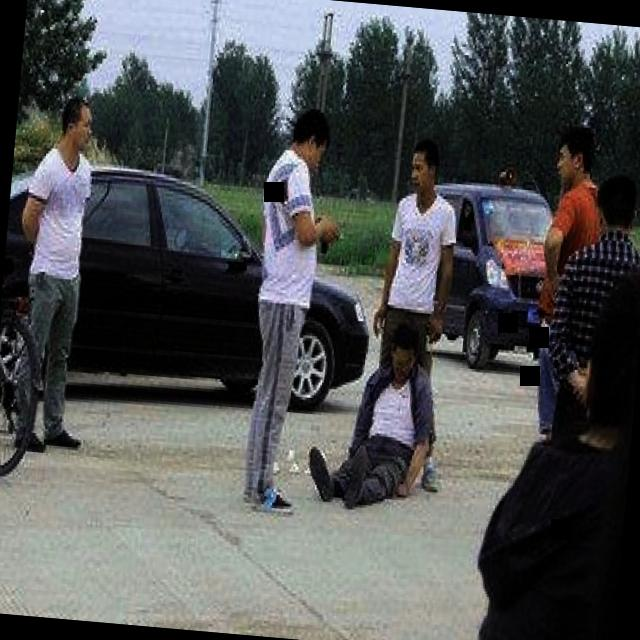Fall-Detected: (297, 304, 456, 516)
